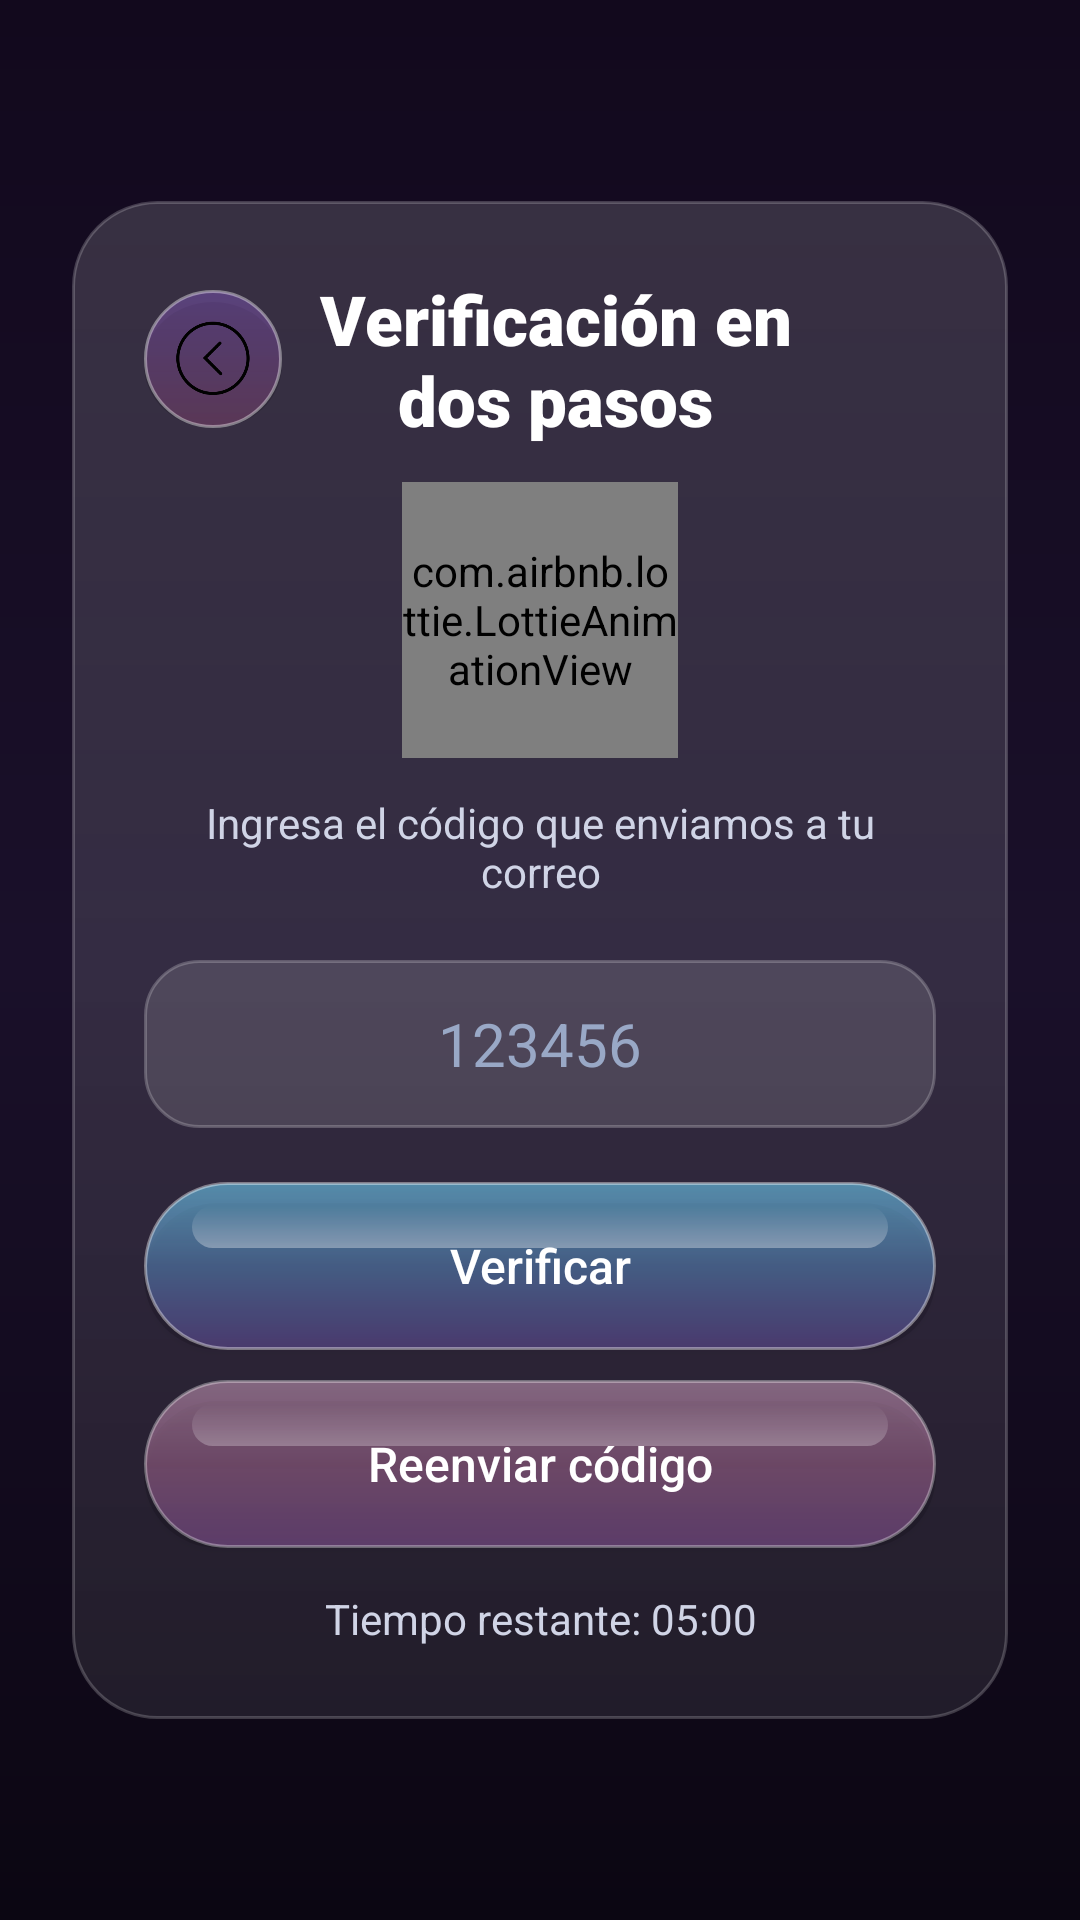

Named icons in this screenshot (1080×1920) and their bounding boxes, bbox(x1, y1, x2, y2):
Regresar: bbox(144, 290, 282, 428)
